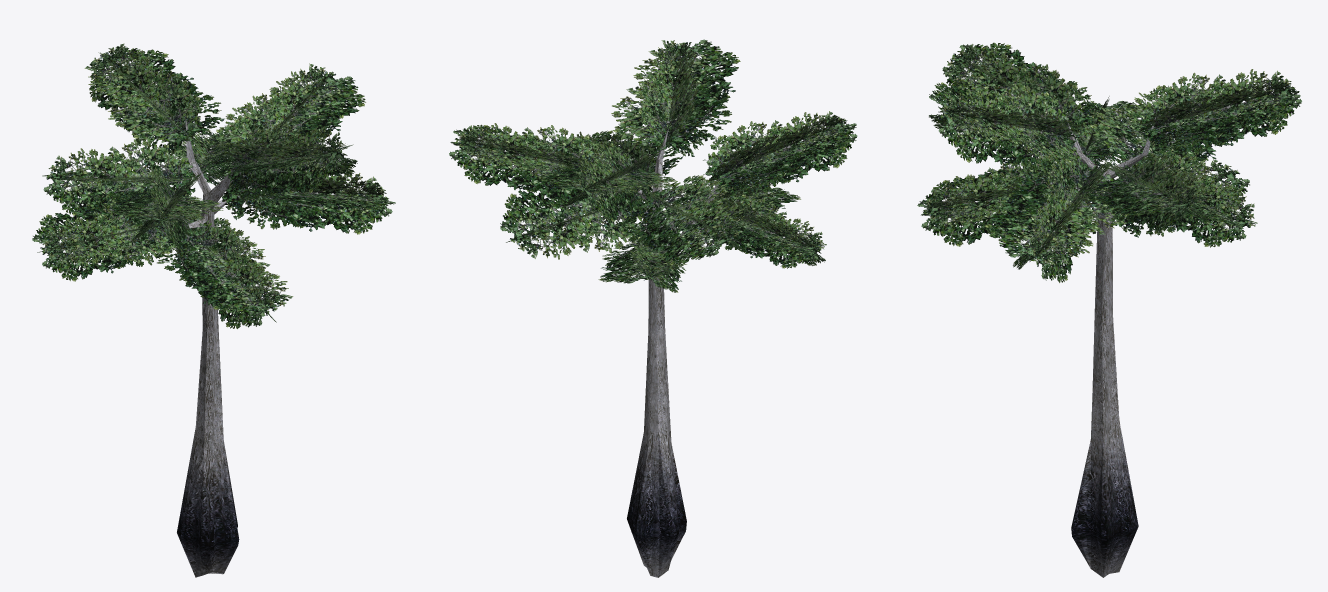
The model's file is decd_massassi_a_l0.fbx.
3 views of the same model, side by side, from view 1: azimuth 30°, elevation 25°; view 2: azimuth 150°, elevation 25°; view 3: azimuth 270°, elevation 25° (orthographic). The views are drawn at different scales.
Parts seen in each view (by area): view 1: mesh_node; view 2: mesh_node; view 3: mesh_node.
Boxes of the visible parts, x1,y1,x2,y2 form: mesh_node: (32, 43, 395, 577); mesh_node: (449, 39, 857, 577); mesh_node: (917, 42, 1301, 577).
Size of the model in its own units: 73.16 by 93.33 by 66.13.
